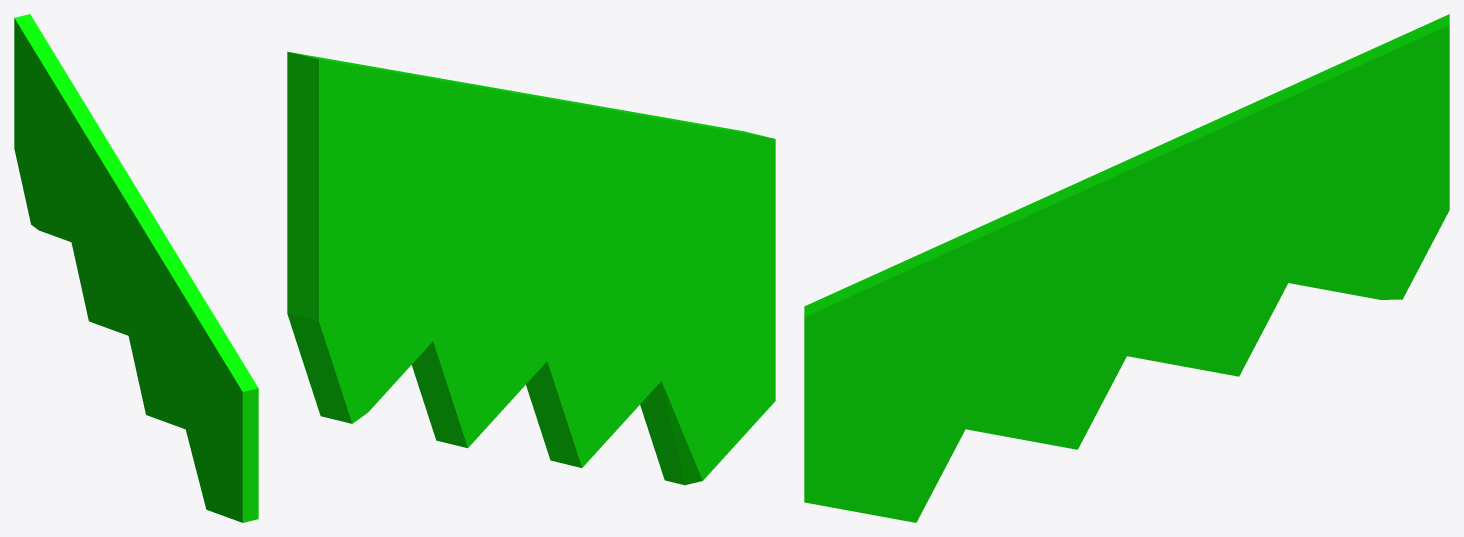
The model's file is SM_Roof_Moderate_1x1m_Decor_Fantasy.fbx.
The picture shows the model from 3 angles, left to right: view 1: azimuth 30°, elevation 25°; view 2: azimuth 150°, elevation 25°; view 3: azimuth 270°, elevation 25°; orthographic projection. The views are drawn at different scales.
Visible parts, largest first — view 1: roof-moderate-1x1m-decor-fantasy; view 2: roof-moderate-1x1m-decor-fantasy; view 3: roof-moderate-1x1m-decor-fantasy.
Part boxes in pixels (x1,y1,x2,y2): roof-moderate-1x1m-decor-fantasy: (14,14,258,522); roof-moderate-1x1m-decor-fantasy: (287,51,775,485); roof-moderate-1x1m-decor-fantasy: (804,14,1449,522).
Size of the model in its own units: 0.04 by 0.8514 by 1.
